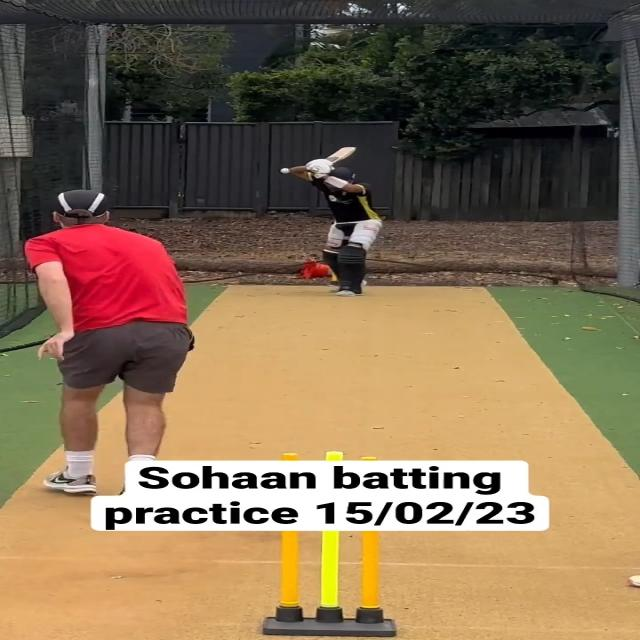ball: (280, 168, 291, 174)
stump: (265, 531, 392, 637)
